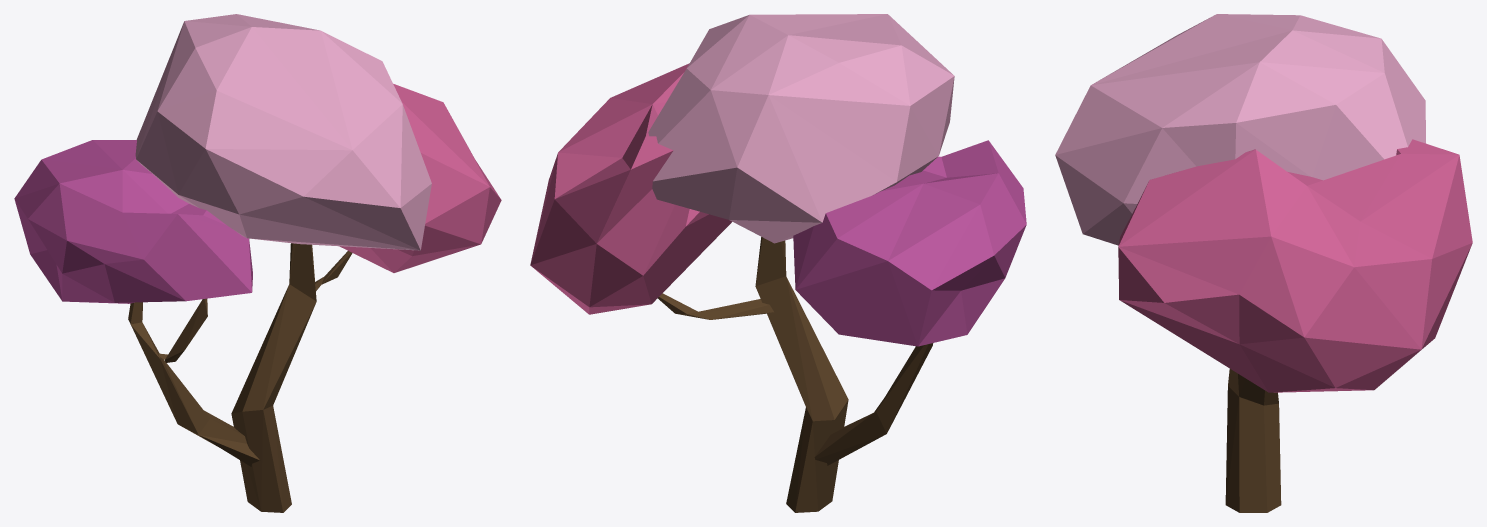
Rendered from MagnoliaSmall.fbx.
The picture shows the model from 3 angles, left to right: view 1: azimuth 30°, elevation 25°; view 2: azimuth 150°, elevation 25°; view 3: azimuth 270°, elevation 25°; orthographic projection. The views are drawn at different scales.
Visible parts, largest first — view 1: Magnolia_small; view 2: Magnolia_small; view 3: Magnolia_small.
Part boxes in pixels (box(x1,y1,x2,y2)): Magnolia_small: box(14, 14, 501, 512); Magnolia_small: box(530, 14, 1026, 512); Magnolia_small: box(1055, 14, 1472, 512).
Size of the model in its own units: 1.13 by 1.14 by 0.9099.
